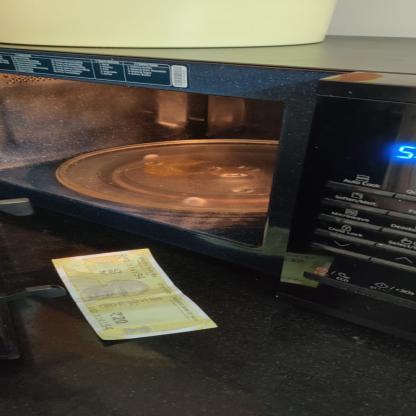New20Front: (49, 247, 220, 343)
